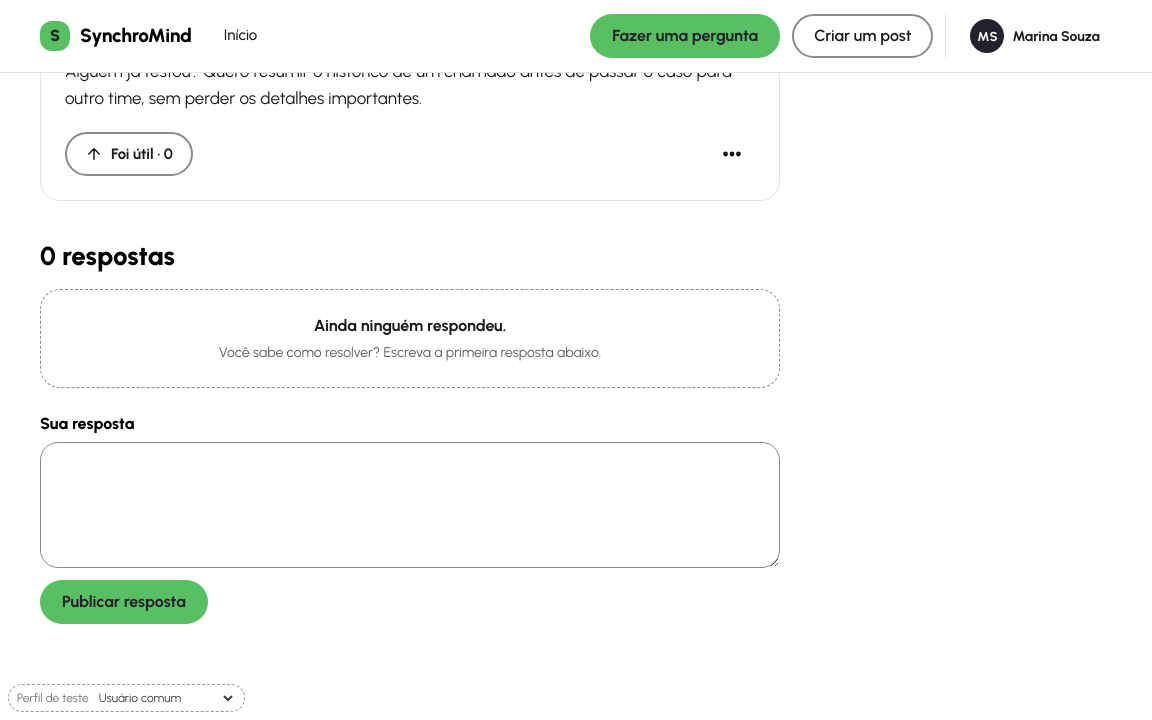
it: B5 detalhe de pergunta (HU-08, HU-13, HU-14) › publica a resposta com o nome de quem respondeu (HU-08, critério 1)
(page scrolled)
Check: the text "Ainda ninguém respondeu." is shown, box [314,316,506,334]
Type "Use a rota estática." into the text box labelled "Sua resposta". click: x=410, y=504
box: [40,442,780,568]
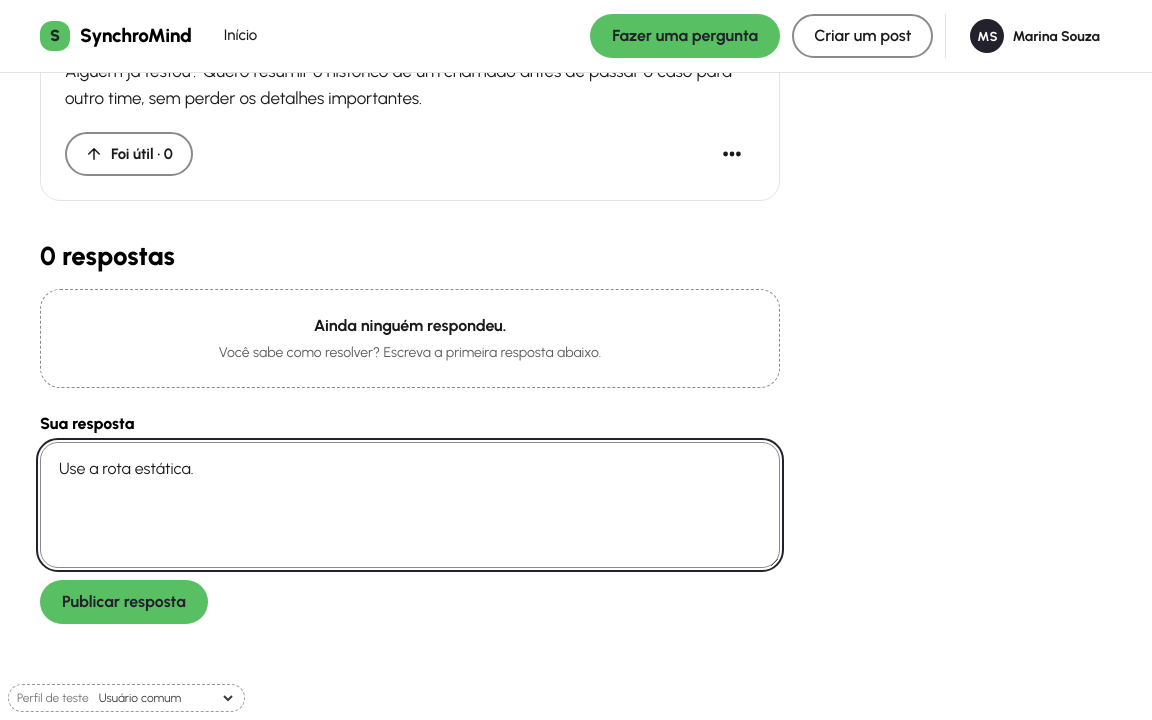
Click the button "Publicar resposta". click: x=124, y=602
box: [40,580,208,624]
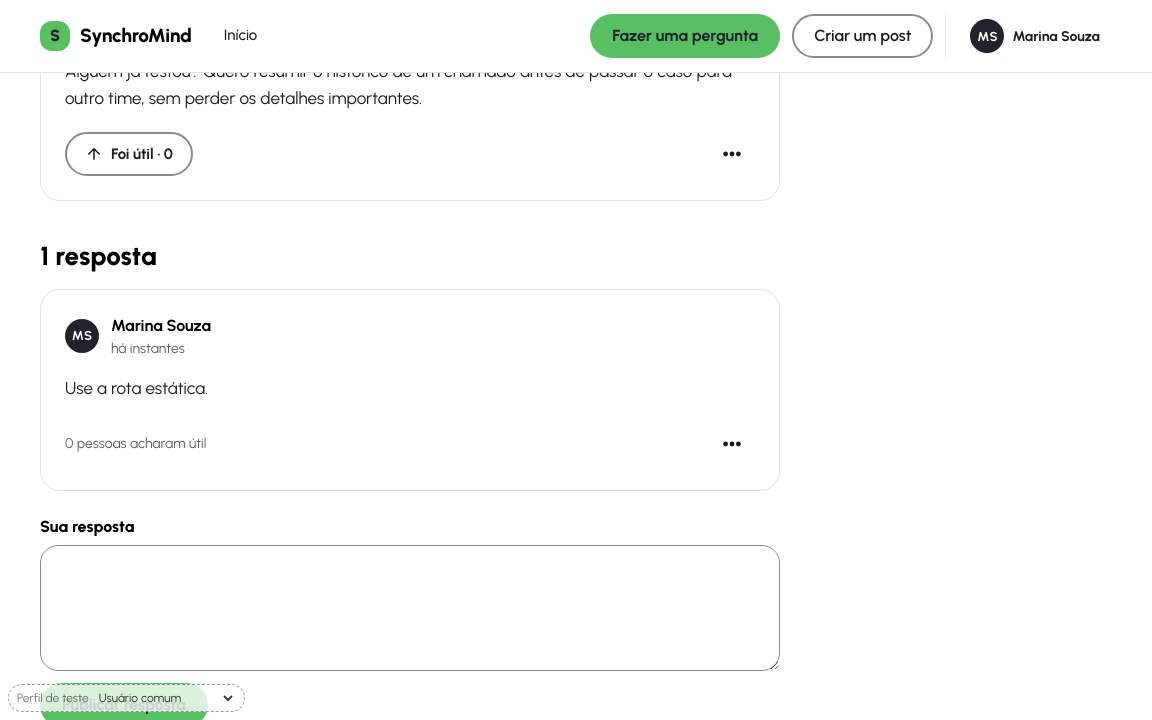
Check: the heading "1 resposta" is shown, box [40,240,157,272]
Check: the text "Use a rota estática." is shown, box [65,378,208,398]
Check: the text box labelled "Sua resposta" is empty, box [40,545,780,671]
